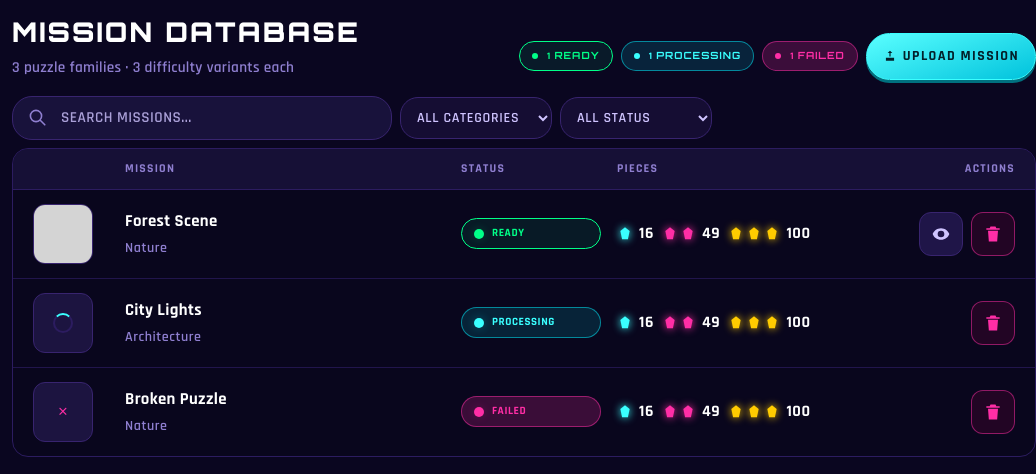
Test: AdminPuzzlesPanel › shows partial delete warnings as a status message
expect the text "Forest Scene" is shown: met, box 125,210 -> 218,232
Click the button named "delete forest scene": (993, 234) 971,212 -> 1015,256
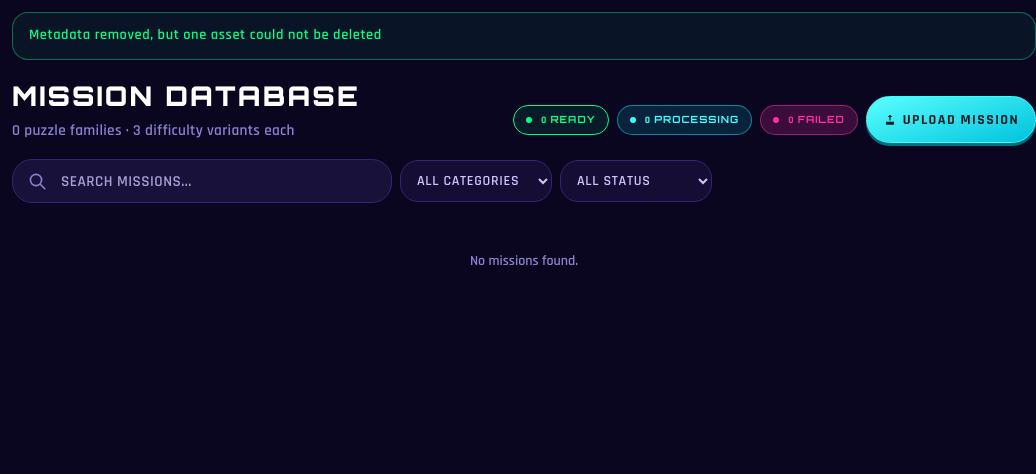
expect the text "Metadata removed, but one asset could not be deleted" is shown: met, box 12,12 -> 1035,60
